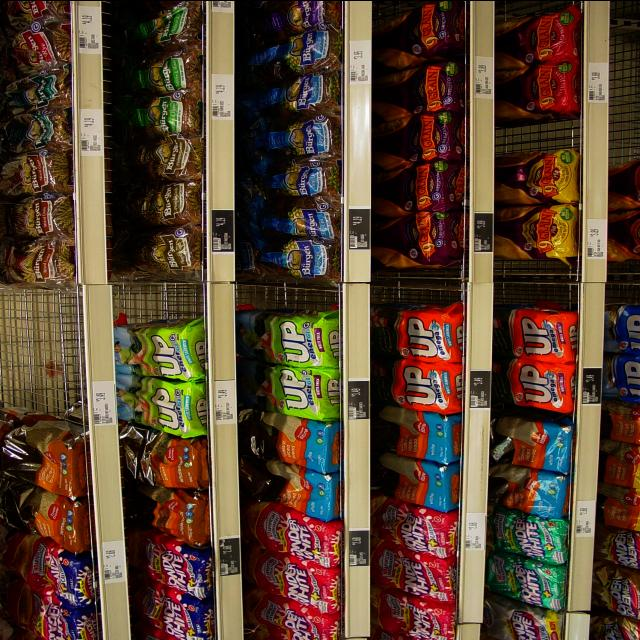empty_space: (0, 291, 69, 403), (609, 33, 639, 155), (125, 278, 197, 312), (238, 284, 330, 306)
